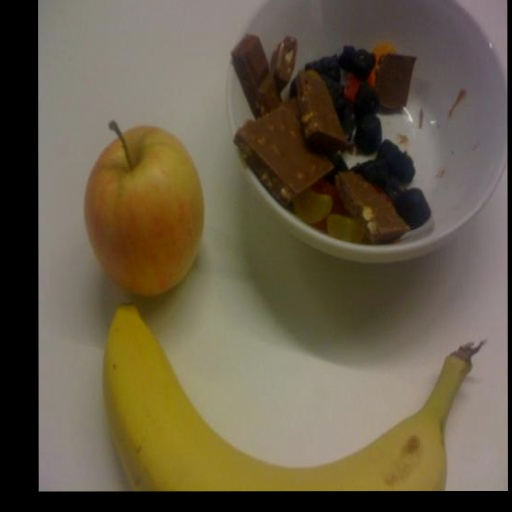fruit: (104, 305, 480, 490), (85, 123, 203, 296)
